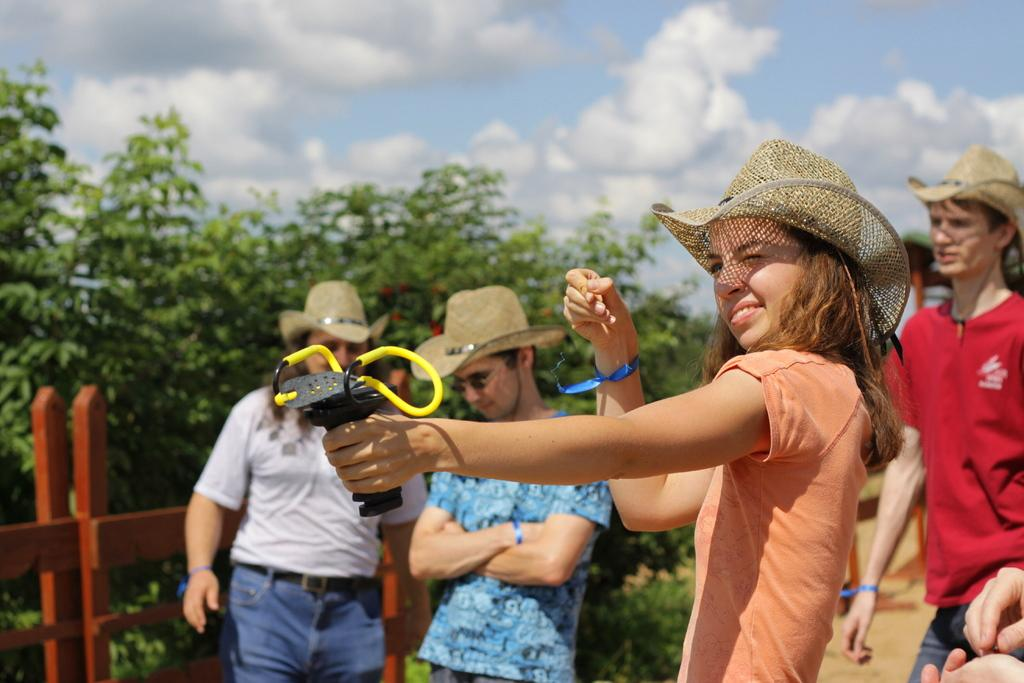Hat: (651, 140, 915, 344), (410, 283, 564, 383), (907, 144, 1023, 268), (278, 282, 387, 367)
